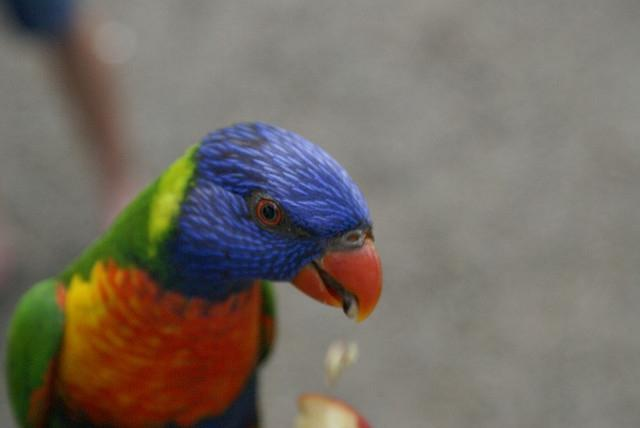apple: (293, 390, 372, 426)
